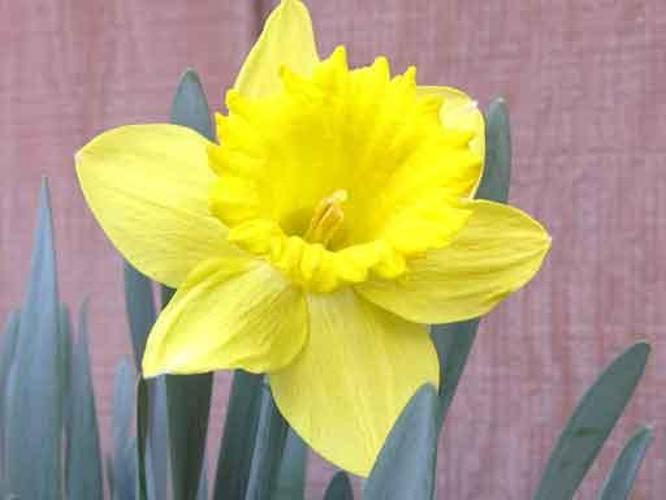flower1: (71, 1, 551, 475)
